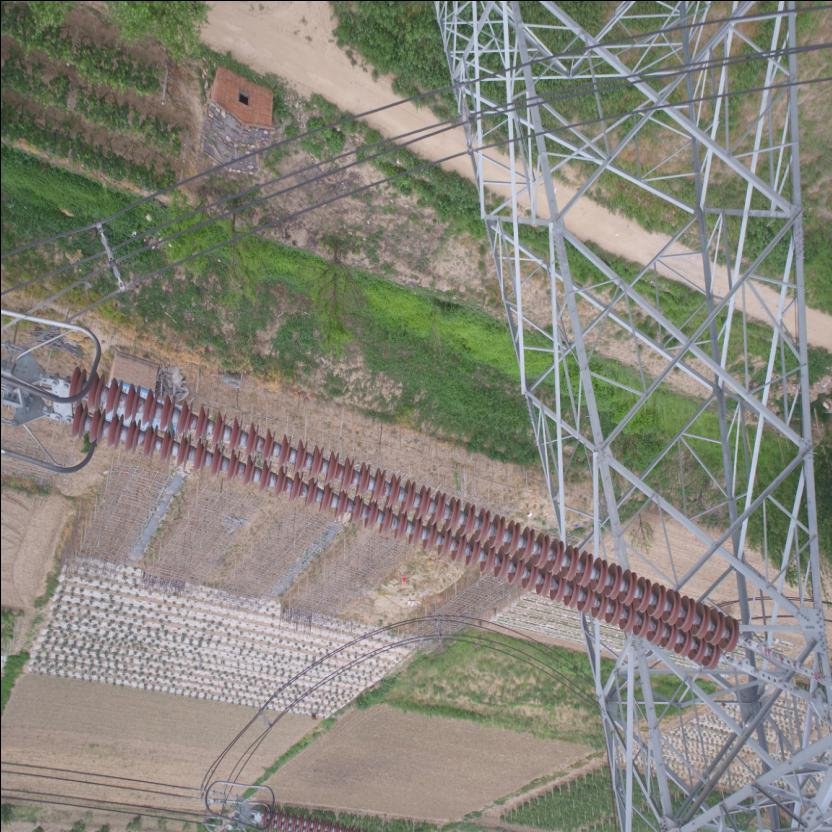insulator: (34, 362, 768, 681)
